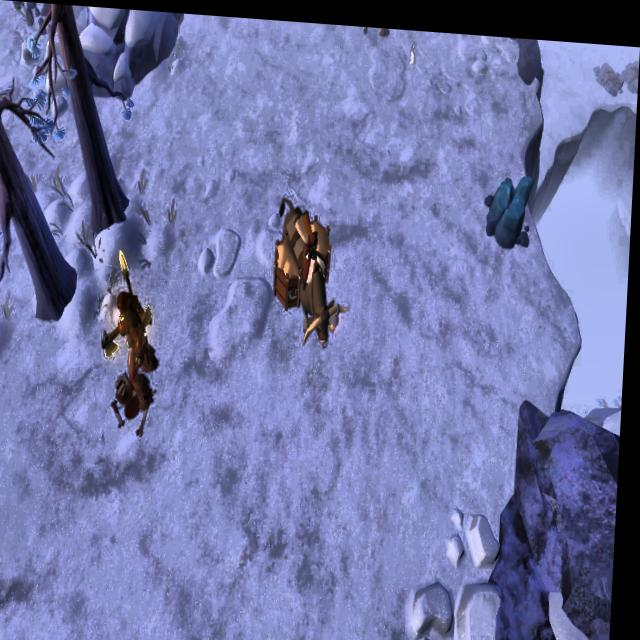enemy_factionKeeper: (106, 275, 163, 383)
rock_t4: (480, 163, 535, 250)
